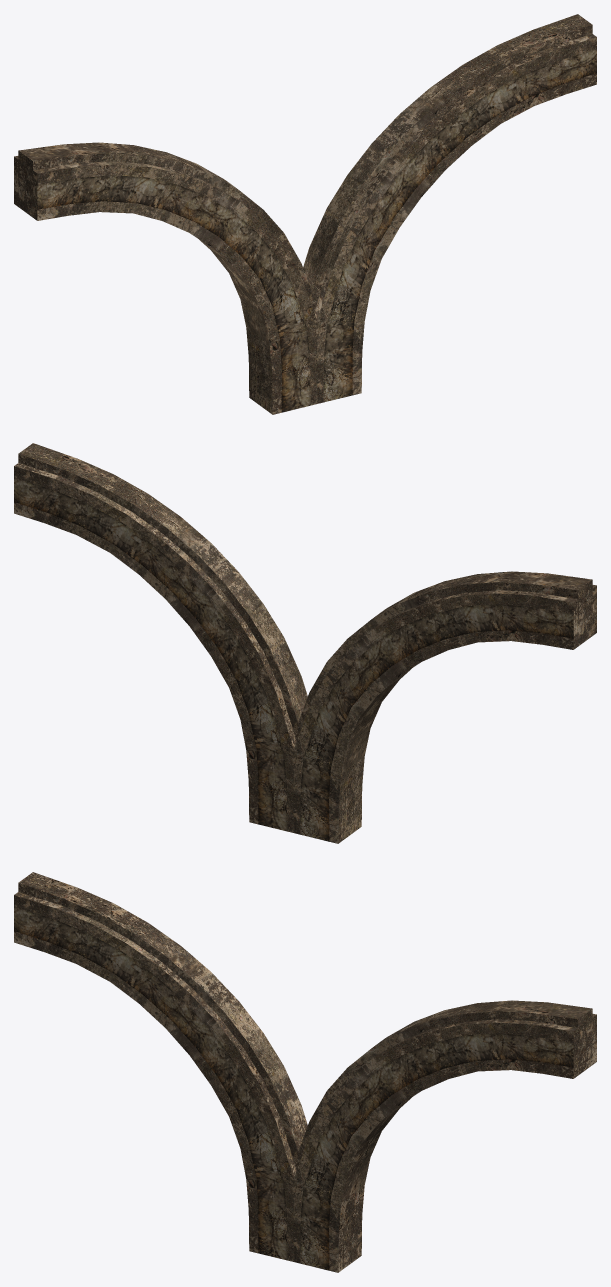
The model's file is materials_5_arch_22.fbx.
3 views of the same model, one above another, from view 1: azimuth 30°, elevation 25°; view 2: azimuth 150°, elevation 25°; view 3: azimuth 330°, elevation 25° (orthographic).
Visible parts, largest first — view 1: materials_5_arch_22; view 2: materials_5_arch_22; view 3: materials_5_arch_22.
Part boxes in pixels (x1,y1,x2,y2): materials_5_arch_22: (14,14,596,414); materials_5_arch_22: (14,443,596,843); materials_5_arch_22: (14,872,596,1272).
Size of the model in its own units: 168 by 88.58 by 12.25.
